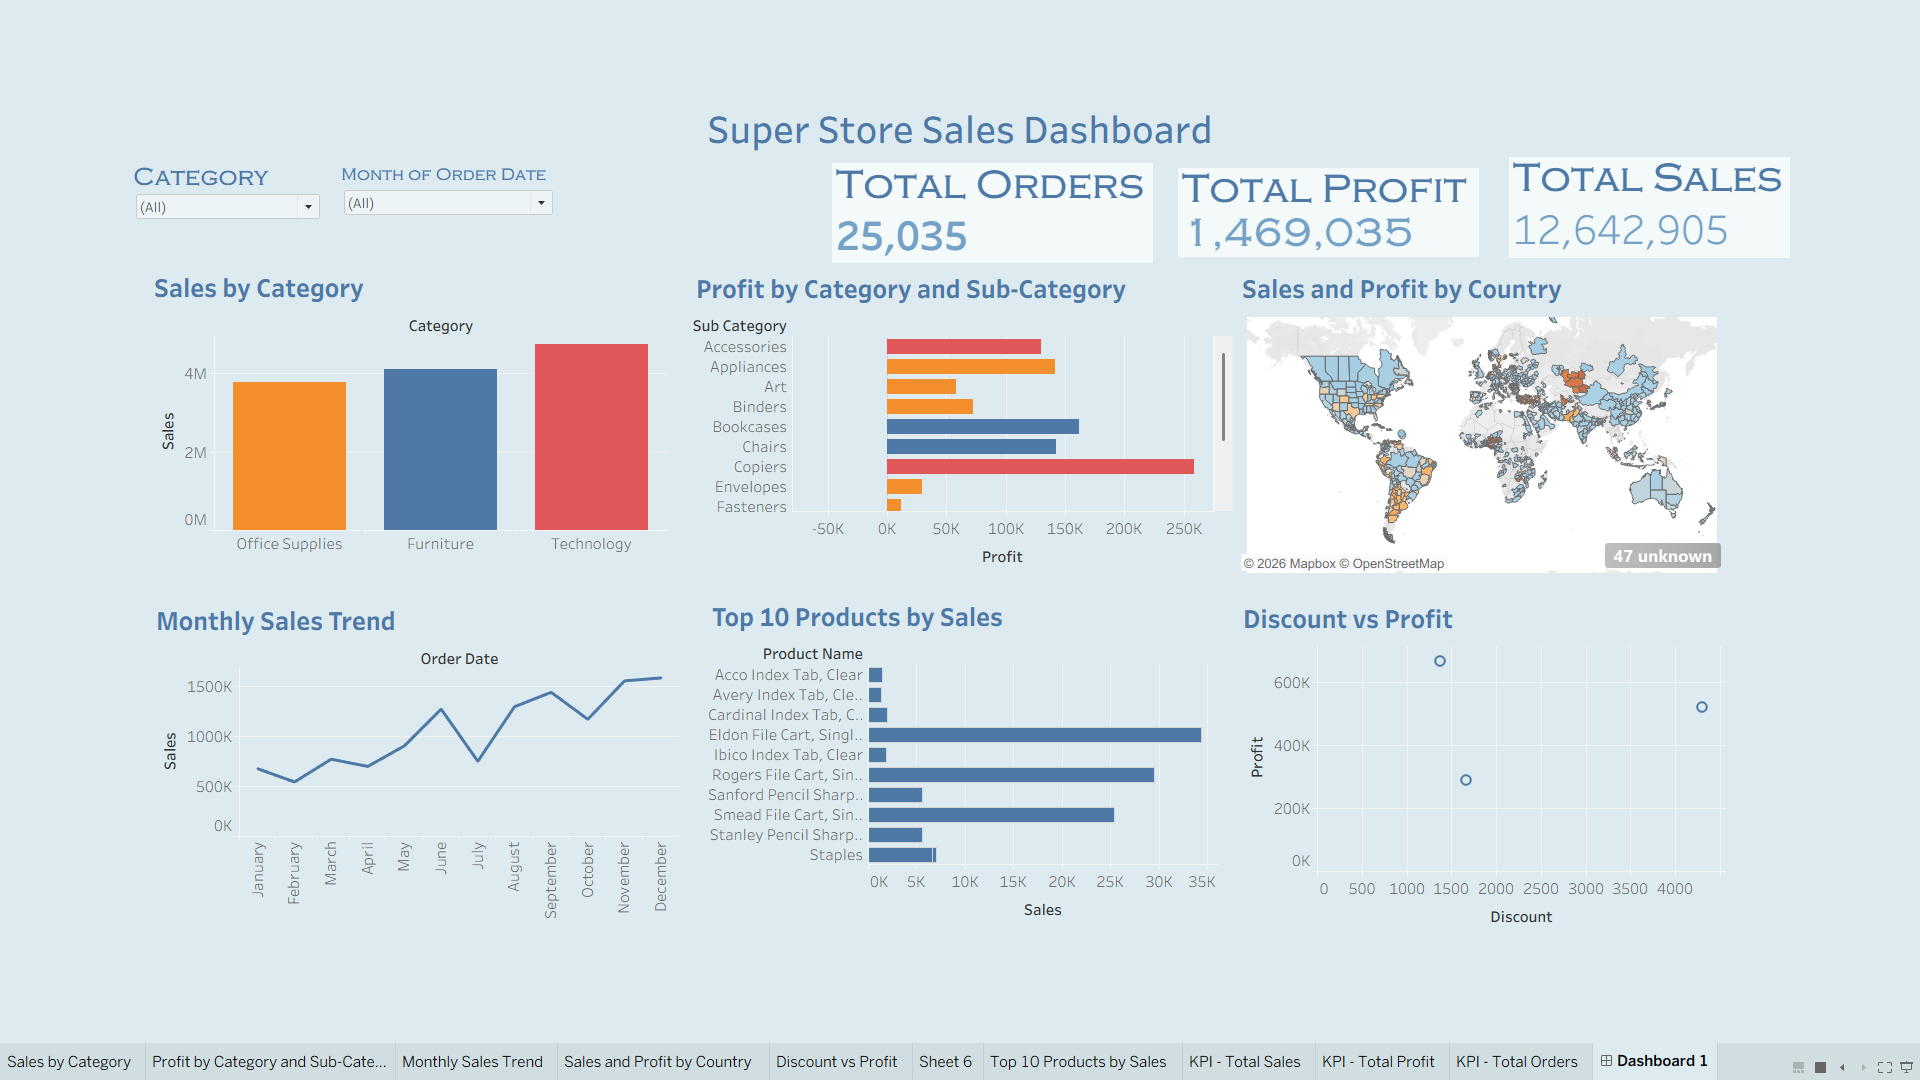

Layout of this report page (visuals, bound fields, positions):
{"tool":"tableau","page":{"name":"Dashboard 1","canvas":[1000,1000],"units":"permille","ordinal":0},"visuals":[{"type":"title","box":[4.8,9.4,990.3,68.2]},{"type":"worksheet","title":"KPI - Total Sales","mark":"Automatic","box":[823.2,58.8,170.8,139.8]},{"type":"worksheet","title":"KPI - Total Orders","mark":"Automatic","box":[424.9,65.8,194.3,137.5]},{"type":"worksheet","title":"KPI - Total Profit","mark":"Automatic","box":[628.2,71.7,181.7,122.2]},{"type":"filter","title":"Sales by Category","param":"[federated.1a273940u4rhd013pj38h1jk023u].[none:category:nk]","box":[13.3,83.4,111.7,72.9]},{"type":"filter","title":"Monthly Sales Trend","param":"[federated.1a273940u4rhd013pj38h1jk023u].[mn:order_date:ok]","box":[135.8,85.8,126.7,62.3]},{"type":"worksheet","title":"Sales by Category","mark":"Automatic","rows":["sales"],"cols":["category"],"box":[23.5,203.3,304.2,353.7]},{"type":"worksheet","title":"Profit by Category and Sub-Category","mark":"Automatic","rows":["sub_category"],"cols":["profit"],"box":[342.2,204.5,318.7,357.2]},{"type":"worksheet","title":"Sales and Profit by Country","mark":"Automatic","box":[663.2,204.5,287.9,357.2]},{"type":"worksheet","title":"Top 10 Products by Sales","mark":"Automatic","rows":["product_name"],"cols":["sales"],"box":[351.8,586.4,299.9,398.4]},{"type":"worksheet","title":"Discount vs Profit","mark":"Automatic","rows":["profit"],"cols":["discount"],"box":[663.9,588.7,286.7,391.3]},{"type":"worksheet","title":"Monthly Sales Trend","mark":"Automatic","rows":["sales"],"cols":["order_date"],"box":[24.7,591.1,310.2,391.3]}]}

Visuals, with their boxes on the dashboard's canvas, which has no fixed pixel size, in thousandths of its width and height (x1, y1, x2, y2). These are canvas units, not pixel positions in the 1920x1080 screenshot, which may show the page scaled, cropped or inside an application window:
title: Rect(5, 9, 995, 78)
"KPI - Total Sales" worksheet: Rect(823, 59, 994, 199)
"KPI - Total Orders" worksheet: Rect(425, 66, 619, 203)
"KPI - Total Profit" worksheet: Rect(628, 72, 810, 194)
"Sales by Category" filter: Rect(13, 83, 125, 156)
"Monthly Sales Trend" filter: Rect(136, 86, 262, 148)
"Sales by Category" worksheet: Rect(24, 203, 328, 557)
"Profit by Category and Sub-Category" worksheet: Rect(342, 204, 661, 562)
"Sales and Profit by Country" worksheet: Rect(663, 204, 951, 562)
"Top 10 Products by Sales" worksheet: Rect(352, 586, 652, 985)
"Discount vs Profit" worksheet: Rect(664, 589, 951, 980)
"Monthly Sales Trend" worksheet: Rect(25, 591, 335, 982)
